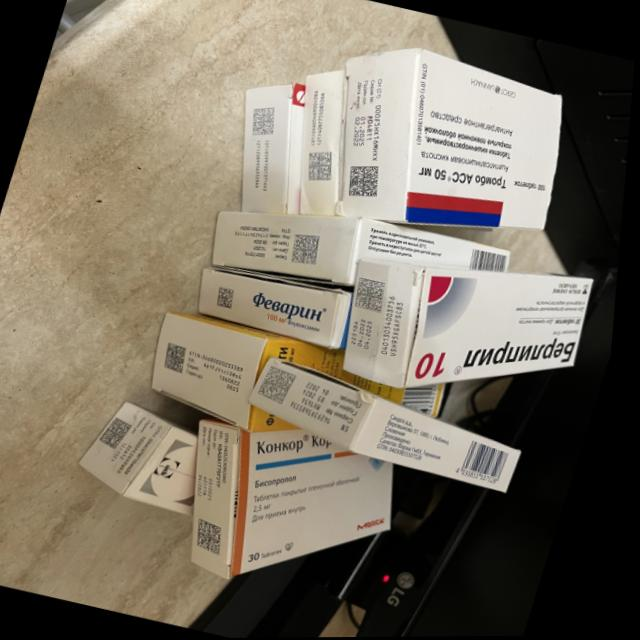datamatrix: (261, 365, 305, 407), (344, 162, 389, 203), (197, 519, 238, 556), (355, 278, 395, 314), (304, 148, 341, 186), (290, 231, 328, 268), (104, 416, 141, 453), (247, 103, 283, 141), (166, 343, 196, 374), (219, 287, 242, 310)
